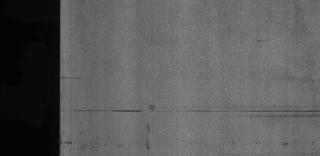scratches: (72, 104, 318, 116), (59, 74, 92, 80)
